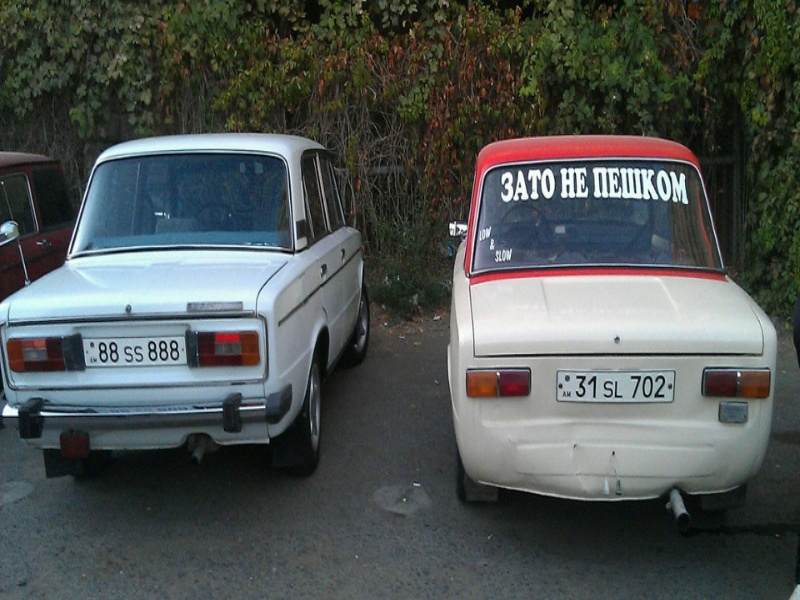car: (445, 135, 778, 522), (1, 132, 370, 479), (1, 150, 77, 301)
plate: (557, 369, 676, 403), (81, 336, 186, 366)
